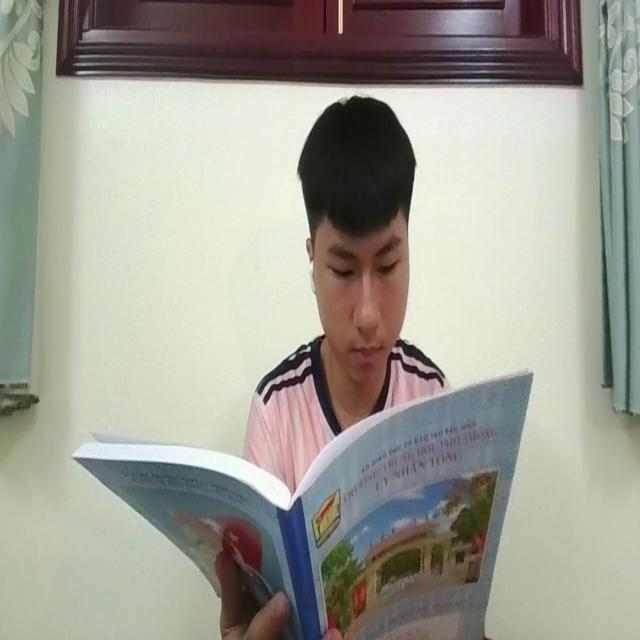book: (68, 371, 516, 629)
student: (235, 86, 453, 431)
